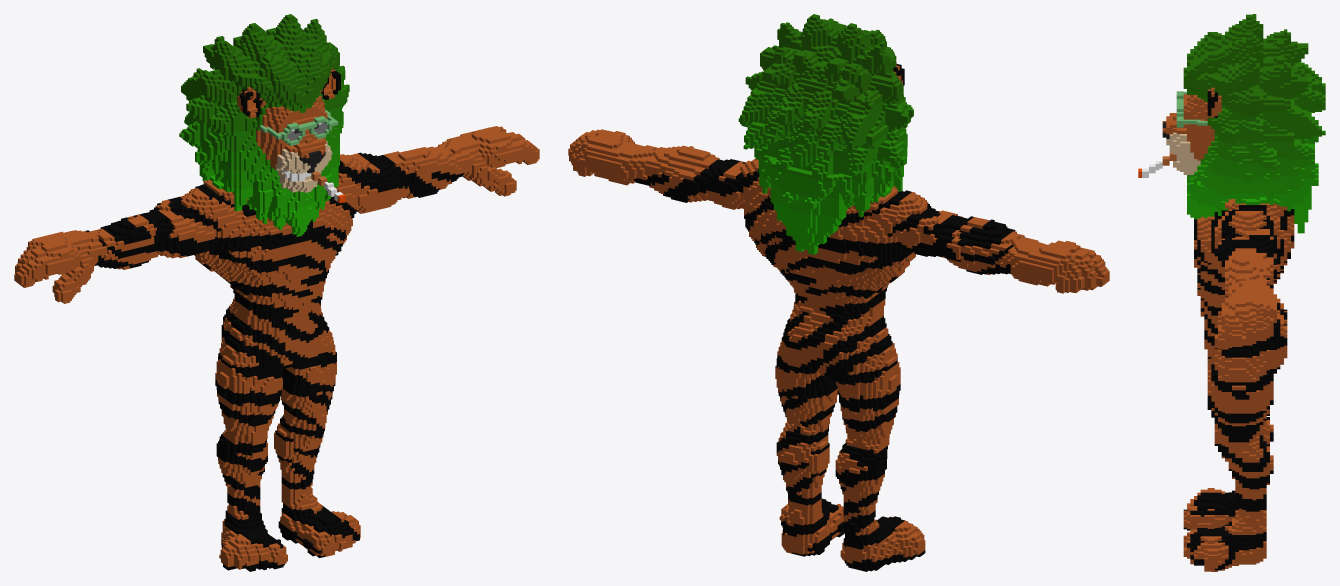
File: 928-Cza1ZMH2.glb
3 renders of one model, left to right at view 1: azimuth 30°, elevation 25°; view 2: azimuth 150°, elevation 25°; view 3: azimuth 270°, elevation 25°, orthographic. The views are drawn at different scales.
Visible parts, largest first — view 1: cigarette; view 2: cigarette; view 3: cigarette.
Part boxes in pixels (x1,y1,x2,y2): cigarette: (14,14,539,571); cigarette: (568,14,1109,571); cigarette: (1138,14,1325,571).
Bounding box in the file's own units: 17.2 × 16.5 × 5.4.
4 materials, 4 textured.
